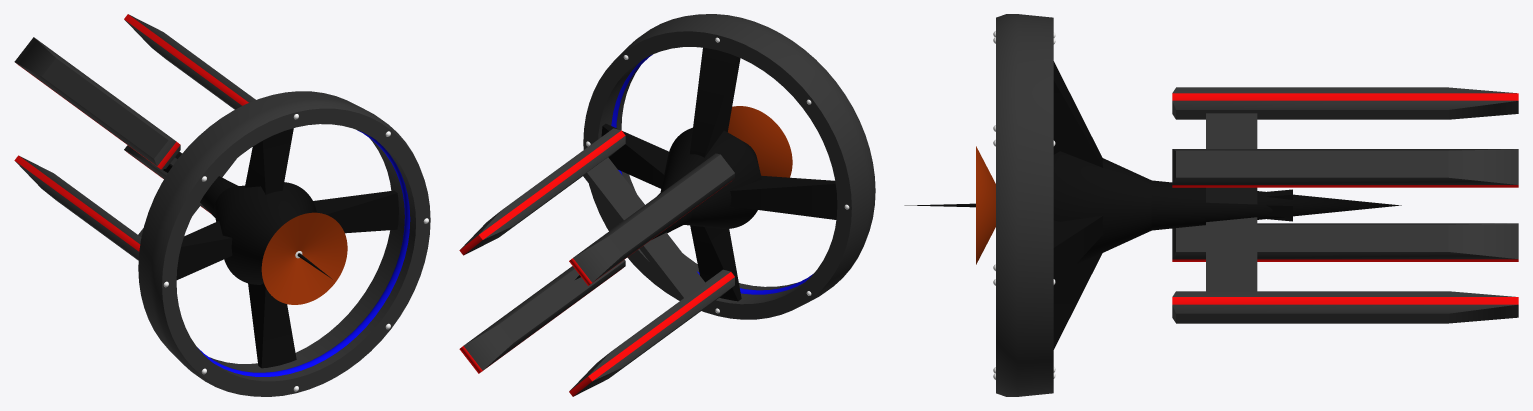
The model's file is OaProbe.FBX.
3 views of the same model, side by side, from view 1: azimuth 30°, elevation 25°; view 2: azimuth 150°, elevation 25°; view 3: azimuth 270°, elevation 25° (orthographic). The views are drawn at different scales.
Parts seen in each view (by area): view 1: Engine, OaProbe, Radiators; view 2: Radiators, Engine, OaProbe; view 3: Radiators, Engine, OaProbe.
Boxes of the visible parts, left/top/right/bottom form: Engine: left=138, top=91, right=430, bottom=396; OaProbe: left=163, top=128, right=398, bottom=368; Radiators: left=14, top=14, right=255, bottom=260; Radiators: left=459, top=128, right=734, bottom=396; Engine: left=583, top=14, right=875, bottom=319; OaProbe: left=575, top=47, right=837, bottom=301; Radiators: left=1172, top=87, right=1518, bottom=323; Engine: left=993, top=14, right=1055, bottom=396; OaProbe: left=904, top=61, right=1401, bottom=349.
Bounding box in the file's own units: 2 × 2 × 3.21.
